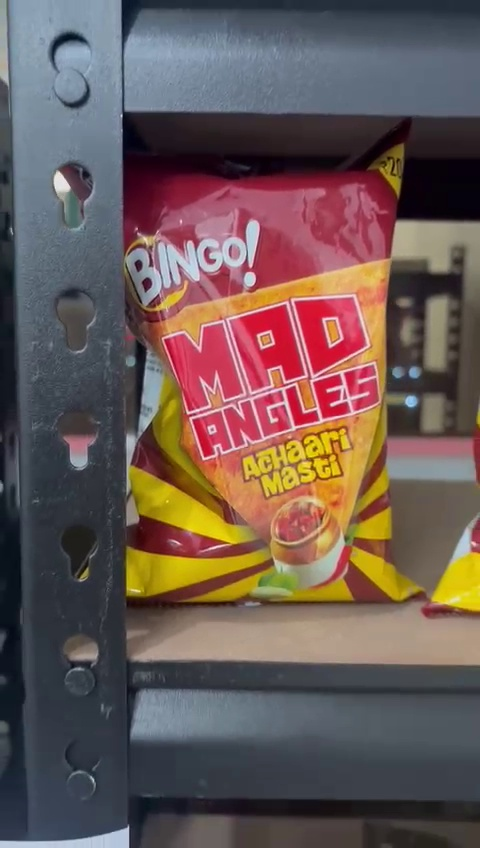Bingo Mad Angles: (123, 159, 409, 611)
